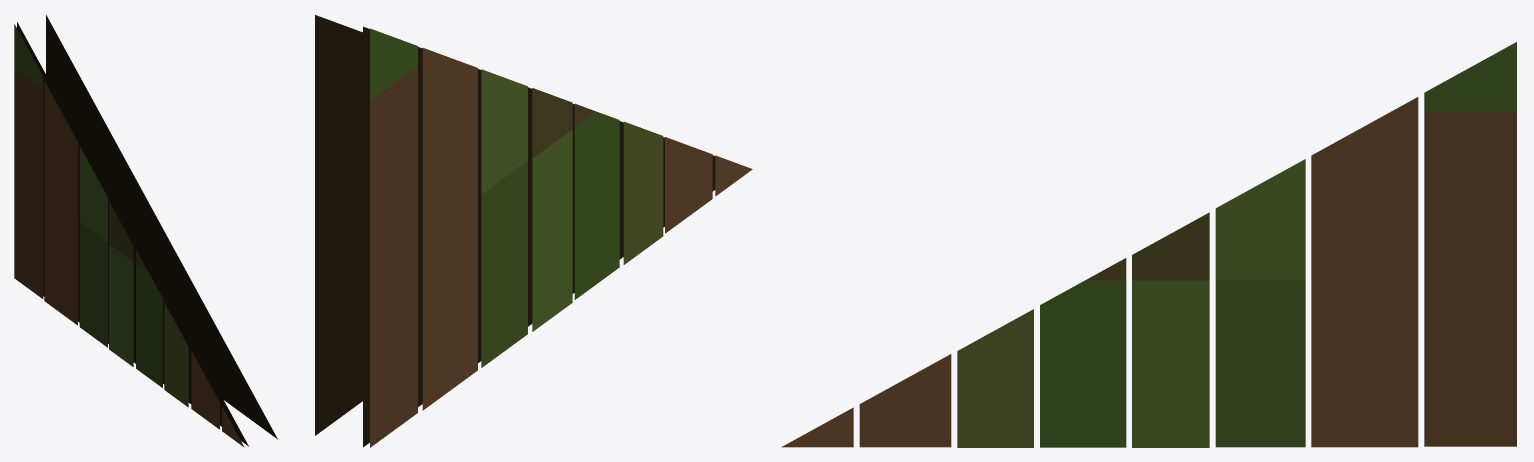
Rendered from wall-mossy-gable-r.glb.
3 renders of one model, left to right at view 1: azimuth 30°, elevation 25°; view 2: azimuth 150°, elevation 25°; view 3: azimuth 270°, elevation 25°, orthographic. The views are drawn at different scales.
Visible parts, largest first — view 1: wall-mossy-gable-r; view 2: wall-mossy-gable-r; view 3: wall-mossy-gable-r.
Boxes of the visible parts, x1=… form: wall-mossy-gable-r: x1=14, y1=15, x2=277, y2=447; wall-mossy-gable-r: x1=315, y1=15, x2=752, y2=447; wall-mossy-gable-r: x1=781, y1=42, x2=1516, y2=447.
Size of the model in its own units: 0.0985 by 0.607 by 1.
